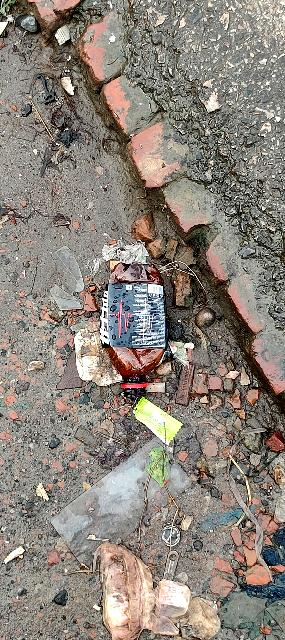bottle: (98, 258, 187, 402)
